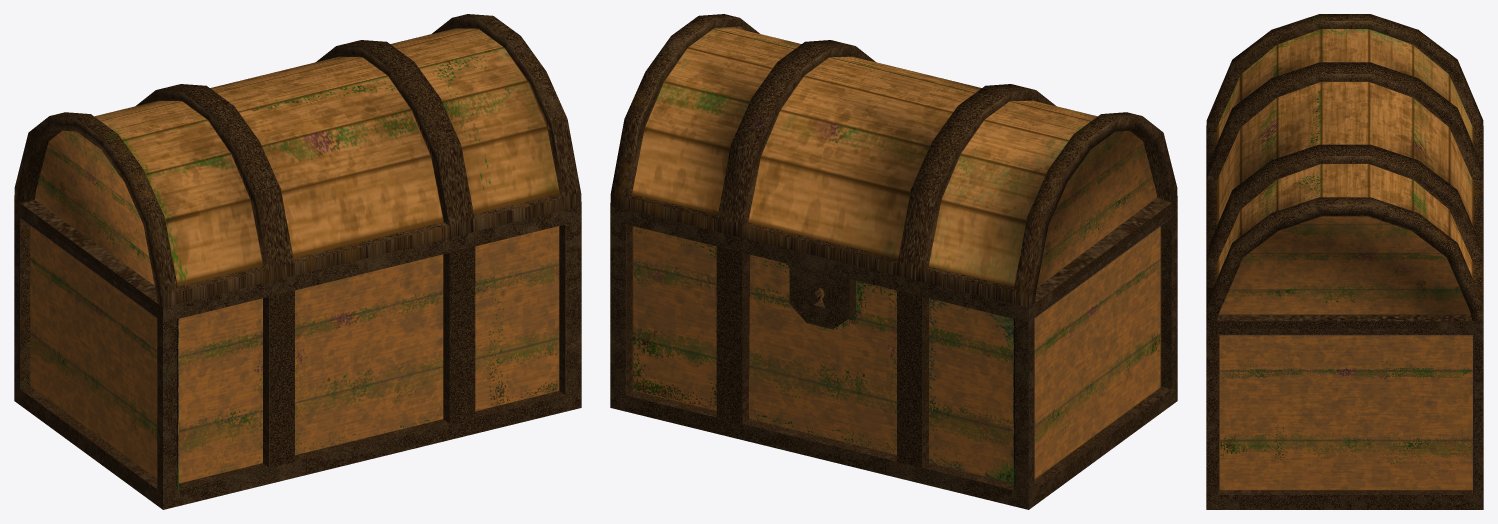
File: P_001_takarabako1_01_21.fbx
The picture shows the model from 3 angles, left to right: view 1: azimuth 30°, elevation 25°; view 2: azimuth 150°, elevation 25°; view 3: azimuth 270°, elevation 25°; orthographic projection. The views are drawn at different scales.
Parts seen in each view (by area): view 1: Box002, オブジェクト; view 2: Box002, オブジェクト; view 3: オブジェクト, Box002.
Boxes of the visible parts, x1,y1,x2,y2 form: Box002: (14,199,581,509); オブジェクト: (14,14,581,307); Box002: (610,197,1177,509); オブジェクト: (610,14,1177,307); オブジェクト: (1206,14,1483,321); Box002: (1206,314,1483,509).
Size of the model in its own units: 64.96 by 48.6 by 40.01.
1 material, 1 textured.
